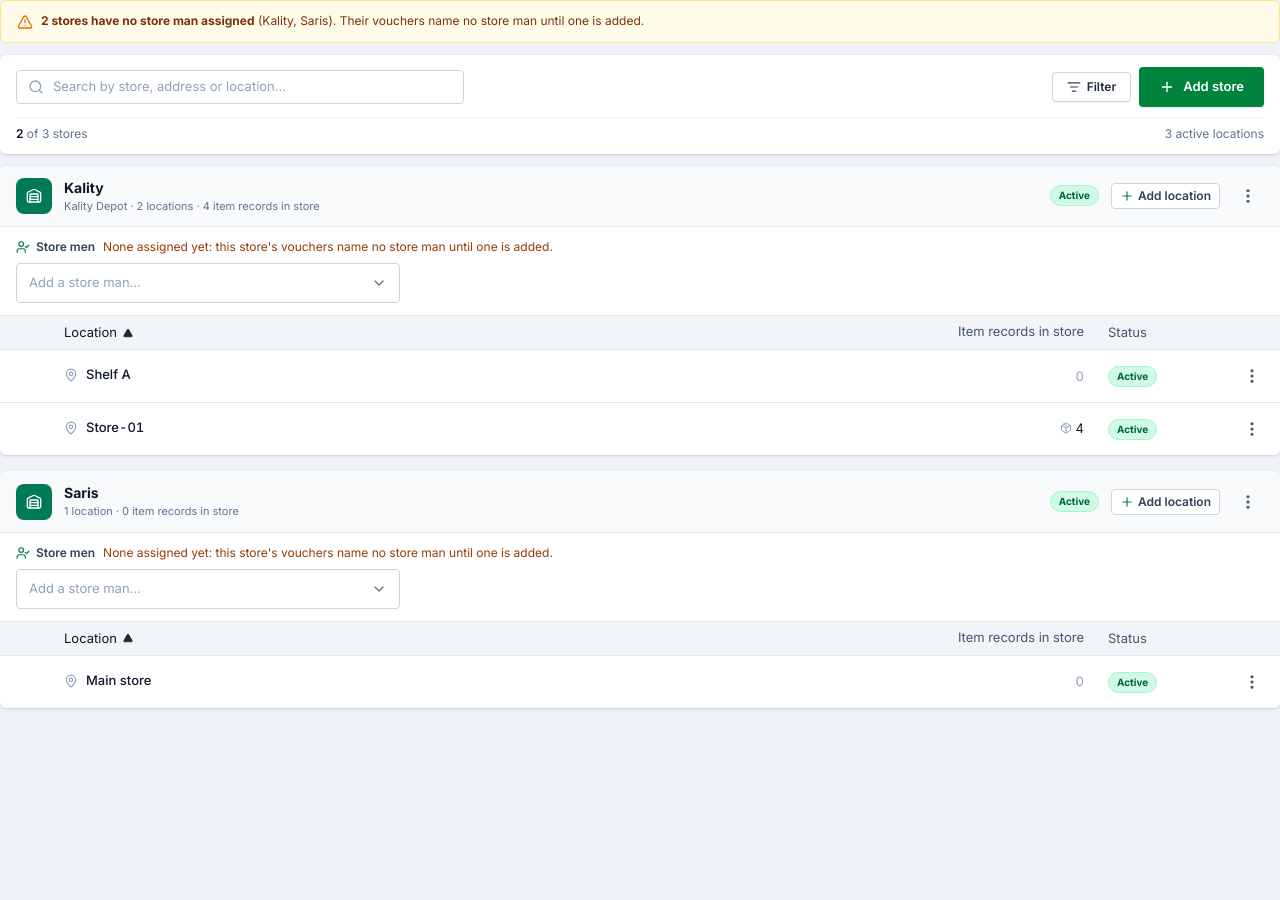
it: Stores page › won't offer to deactivate a store or a location that still holds items, or a store's only location to delete
Click the button named "Actions for Kality": (1248, 196) [1232, 180, 1264, 212]
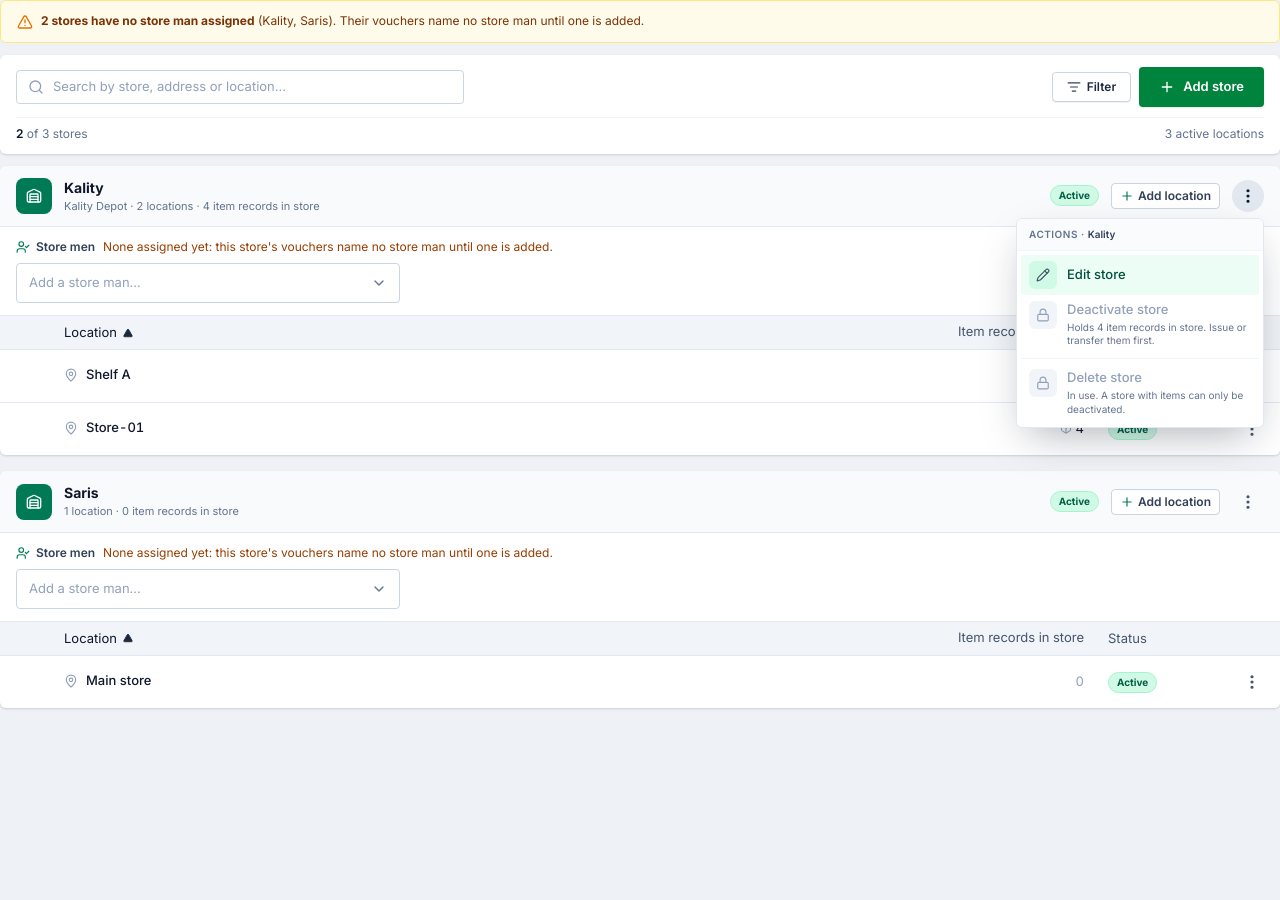
Check: the menu item "Deactivate store" is disabled, box [1021, 295, 1259, 354]
Check: the menu item "Deactivate store" shows "Holds 4 item records in store", box [1021, 295, 1259, 354]
Press Escape
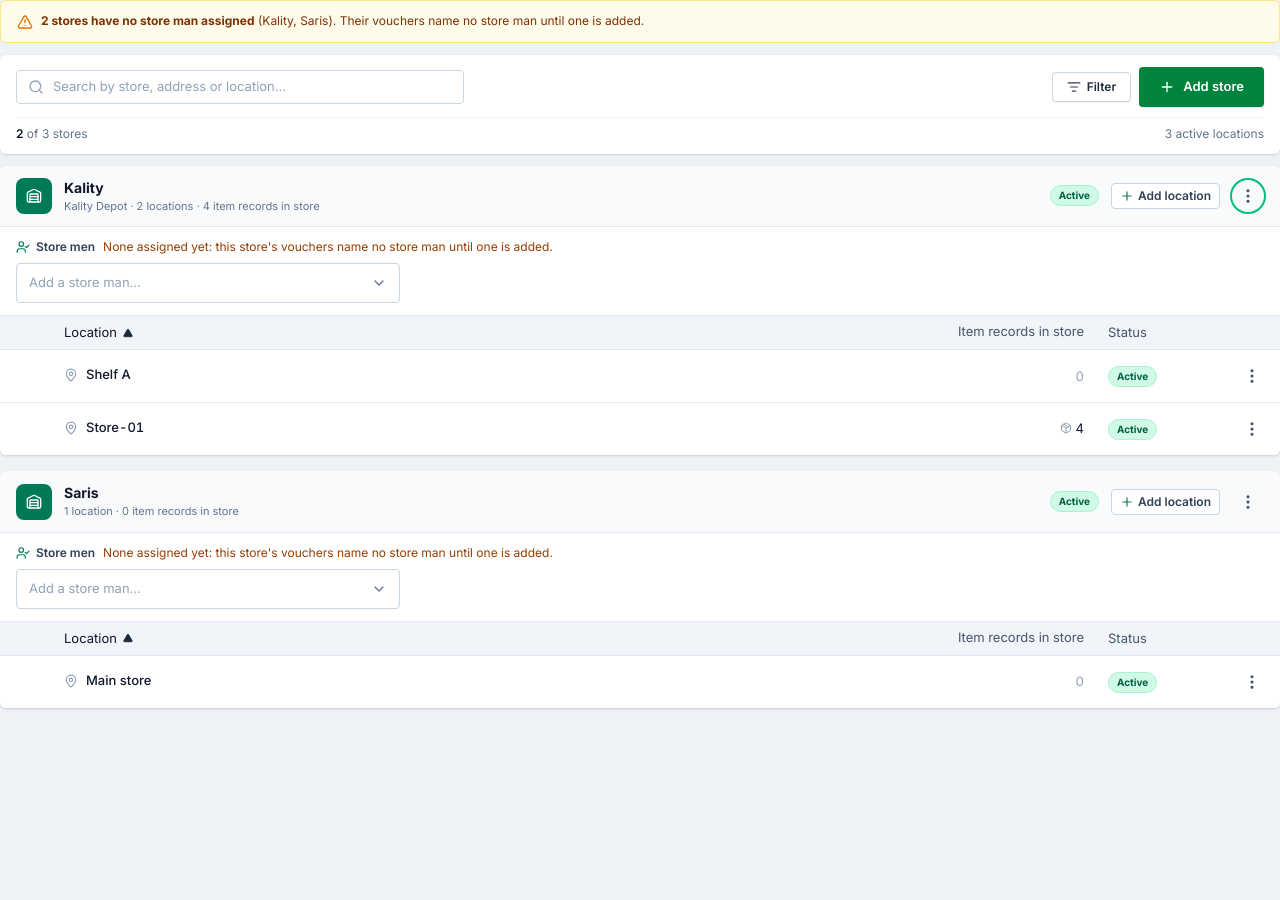
Click the button named "Actions for Kality Store-01": (1252, 429) [1236, 413, 1268, 445]
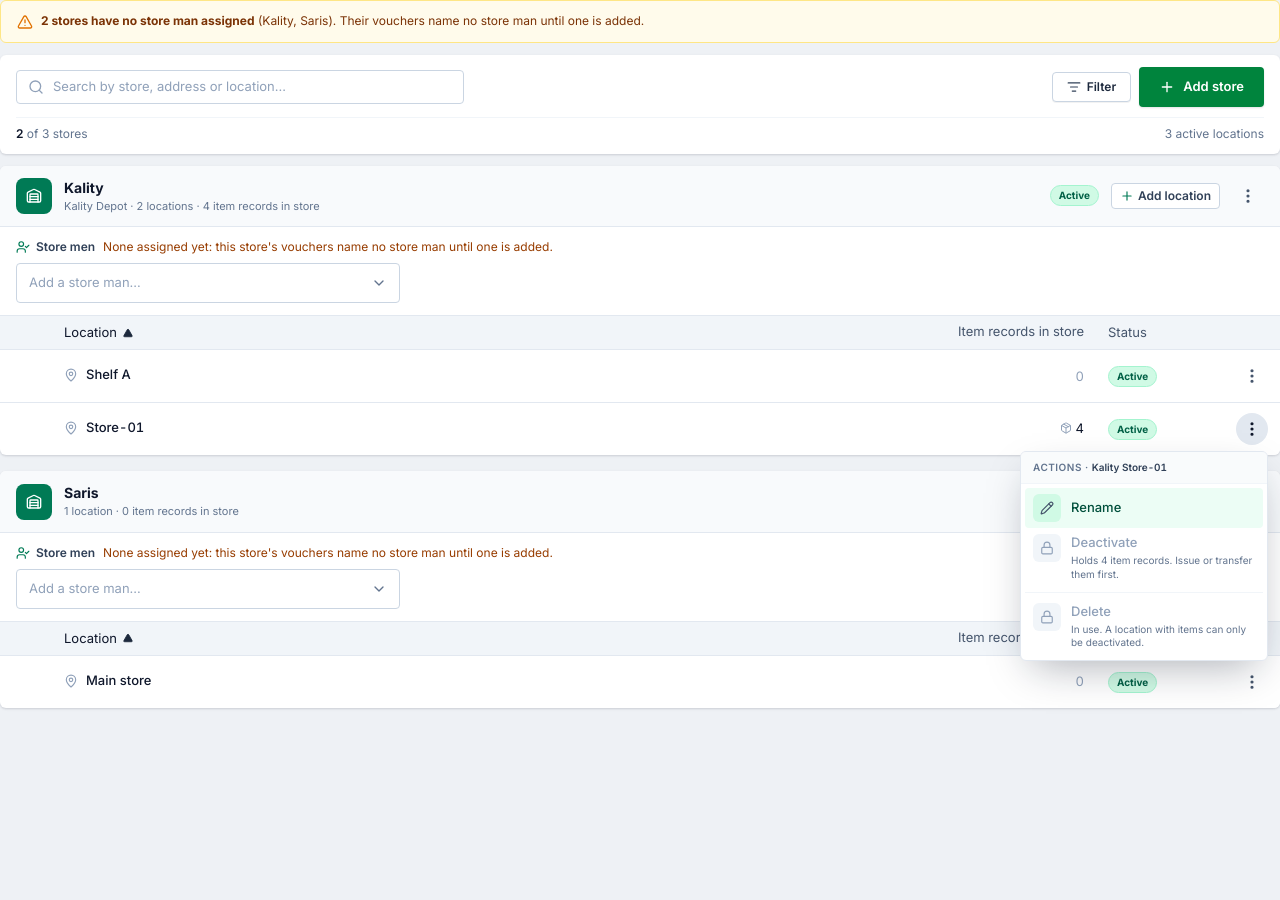
Check: the menu item "Deactivate" is disabled, box [1025, 528, 1263, 588]
Press Escape
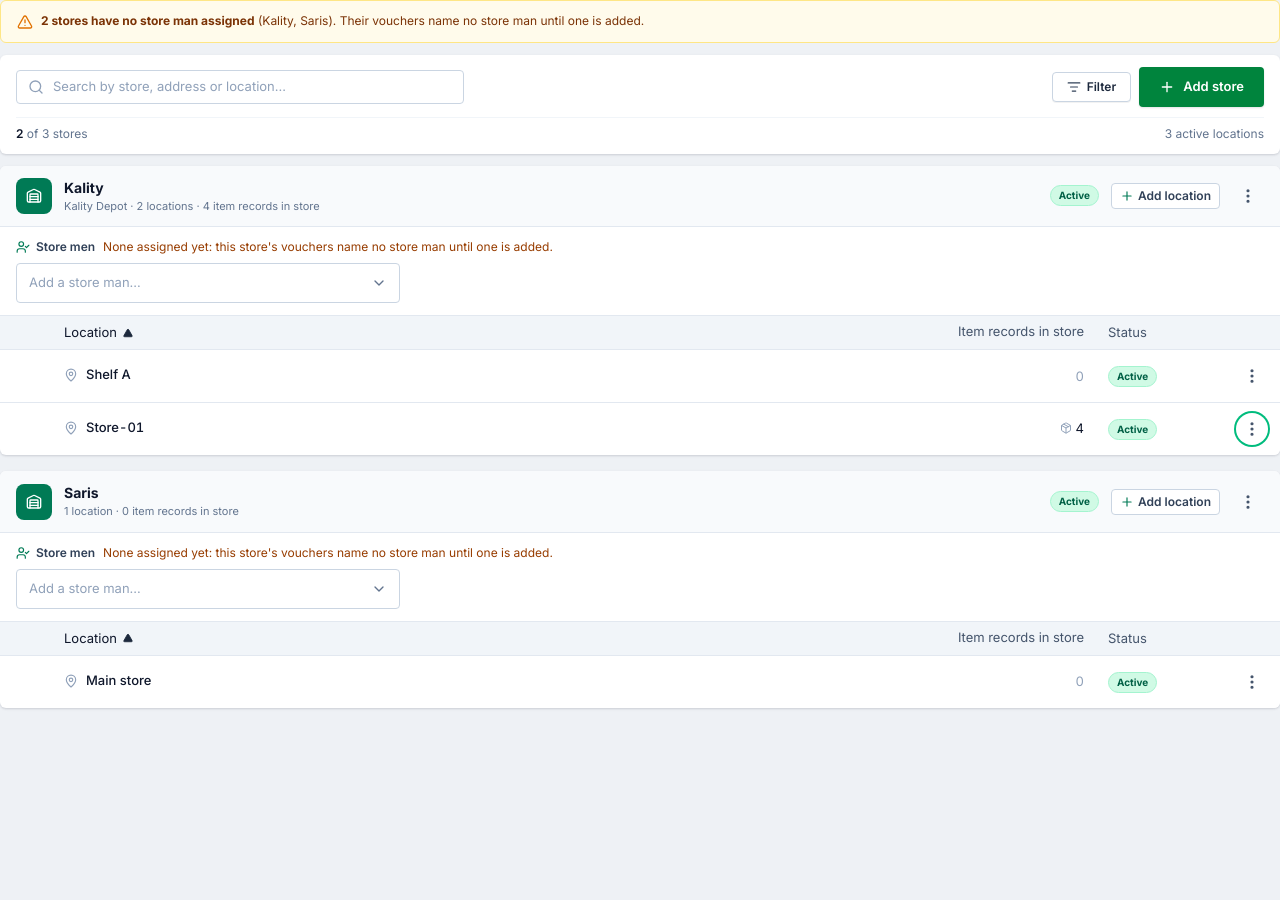
Click the button named "Actions for Saris Main store": (1252, 682) [1236, 666, 1268, 698]
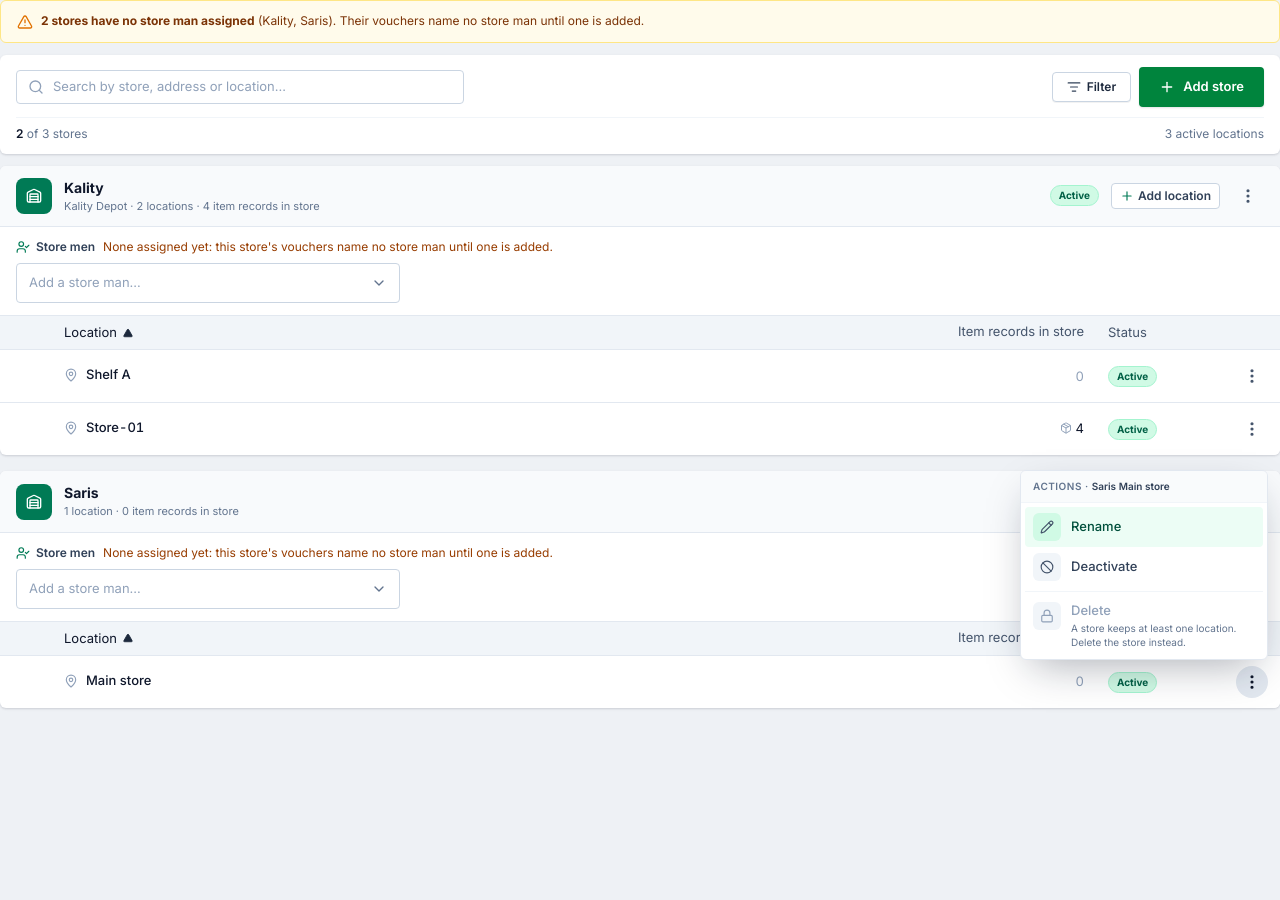
Check: the menu item "Delete" is disabled, box [1025, 596, 1263, 655]
Check: the menu item "Delete" shows "A store keeps at least one location", box [1025, 596, 1263, 655]
